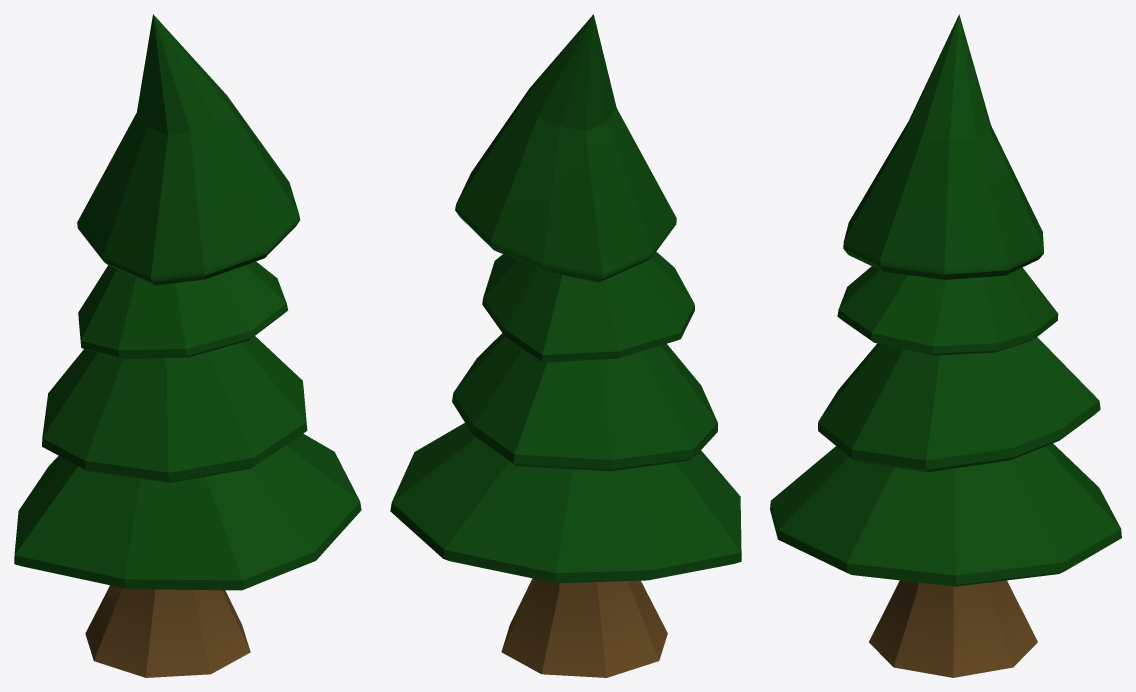
The model's file is asset_BigTree_03.fbx.
3 views of the same model, side by side, from view 1: azimuth 30°, elevation 25°; view 2: azimuth 150°, elevation 25°; view 3: azimuth 270°, elevation 25° (orthographic).
Parts seen in each view (by area): view 1: Big_Tree_03; view 2: Big_Tree_03; view 3: Big_Tree_03.
Part boxes in pixels (<box>): Big_Tree_03: <box>14,14,361,677</box>; Big_Tree_03: <box>390,14,741,677</box>; Big_Tree_03: <box>770,14,1121,677</box>.
Size of the model in its own units: 273 by 507 by 260.
